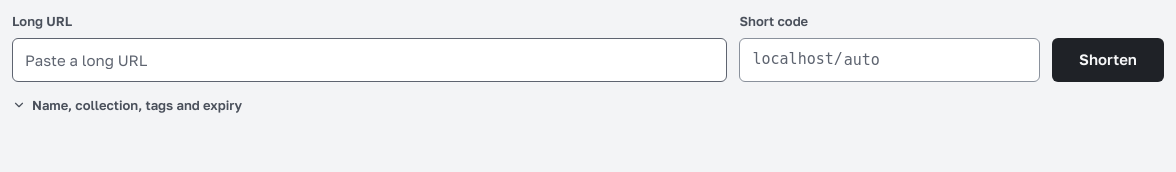
Test case: CreateLinkForm › keeps Shorten enabled and says what is missing
Click the button "Shorten" at [1108, 60], box top-left (1052, 38), bottom-right (1164, 82)
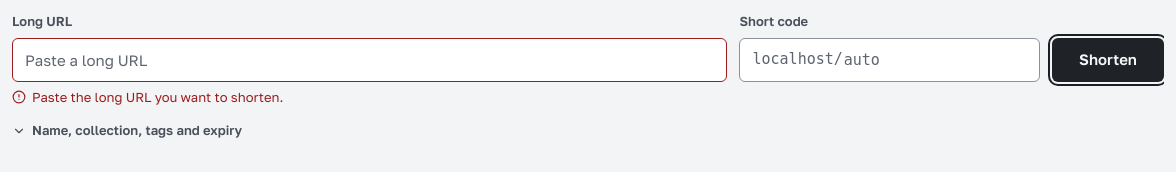
Expected: the text "Paste the long URL you want to shorten." is shown, top-left (12, 88), bottom-right (283, 104)
